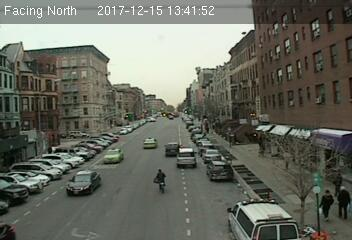bicycle: (152, 168, 167, 194)
car: (67, 169, 102, 196), (205, 159, 233, 181), (175, 147, 197, 168), (103, 147, 123, 163), (201, 149, 222, 162), (163, 142, 181, 156), (142, 137, 156, 148)
pedestrian: (317, 187, 335, 222), (335, 185, 352, 221)
police: (225, 198, 299, 240)
